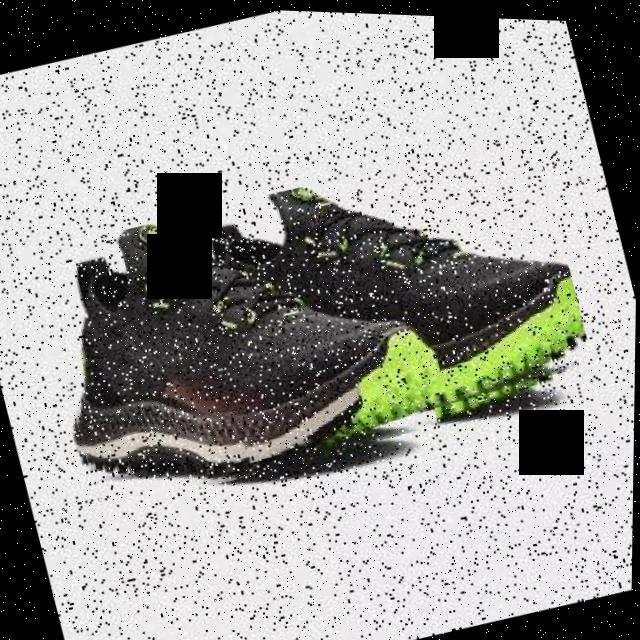shoe: (167, 118, 602, 476), (27, 158, 445, 526)
